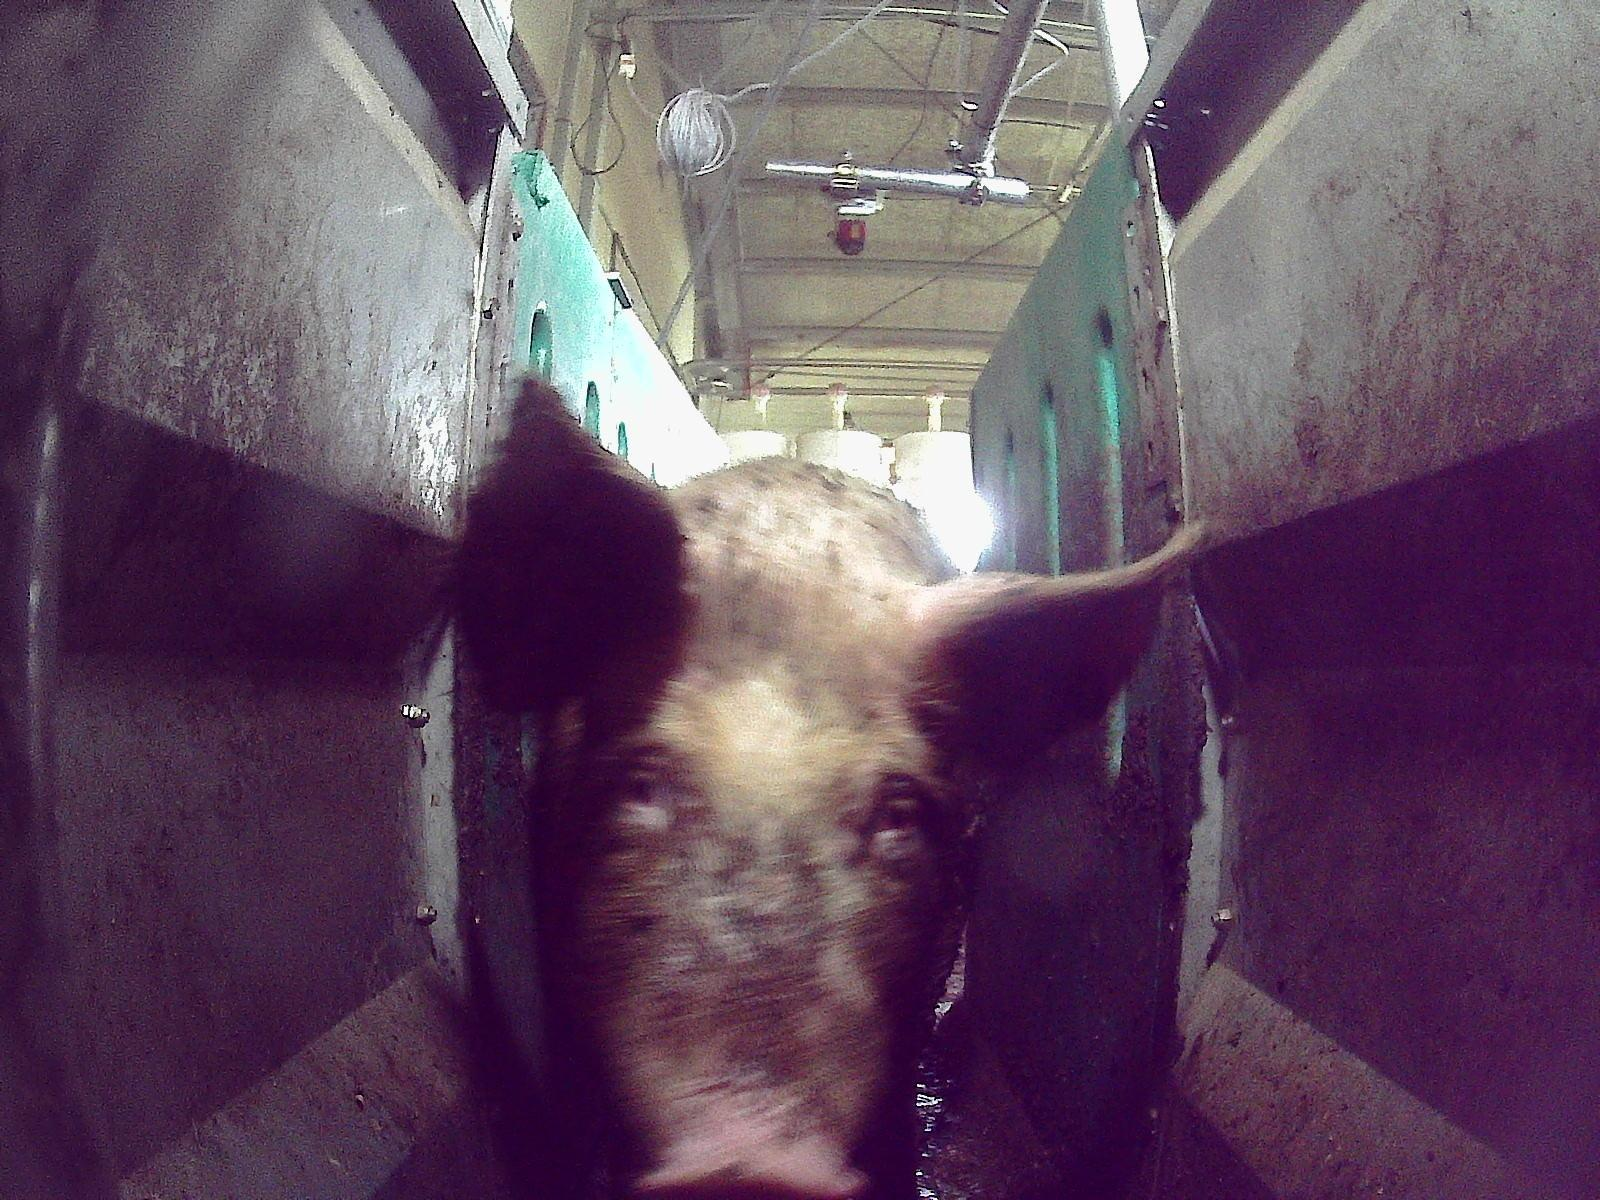Face: (567, 646, 964, 1199)
